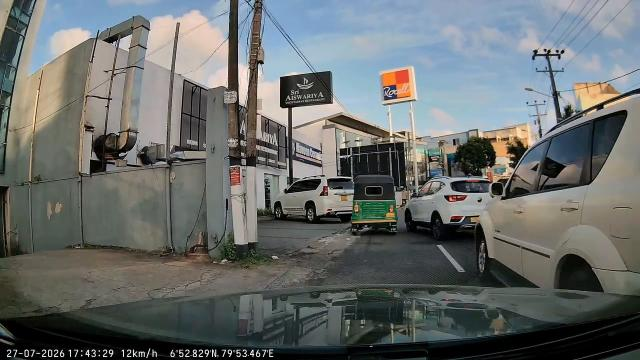illegal overtaking: (349, 172, 402, 241)
